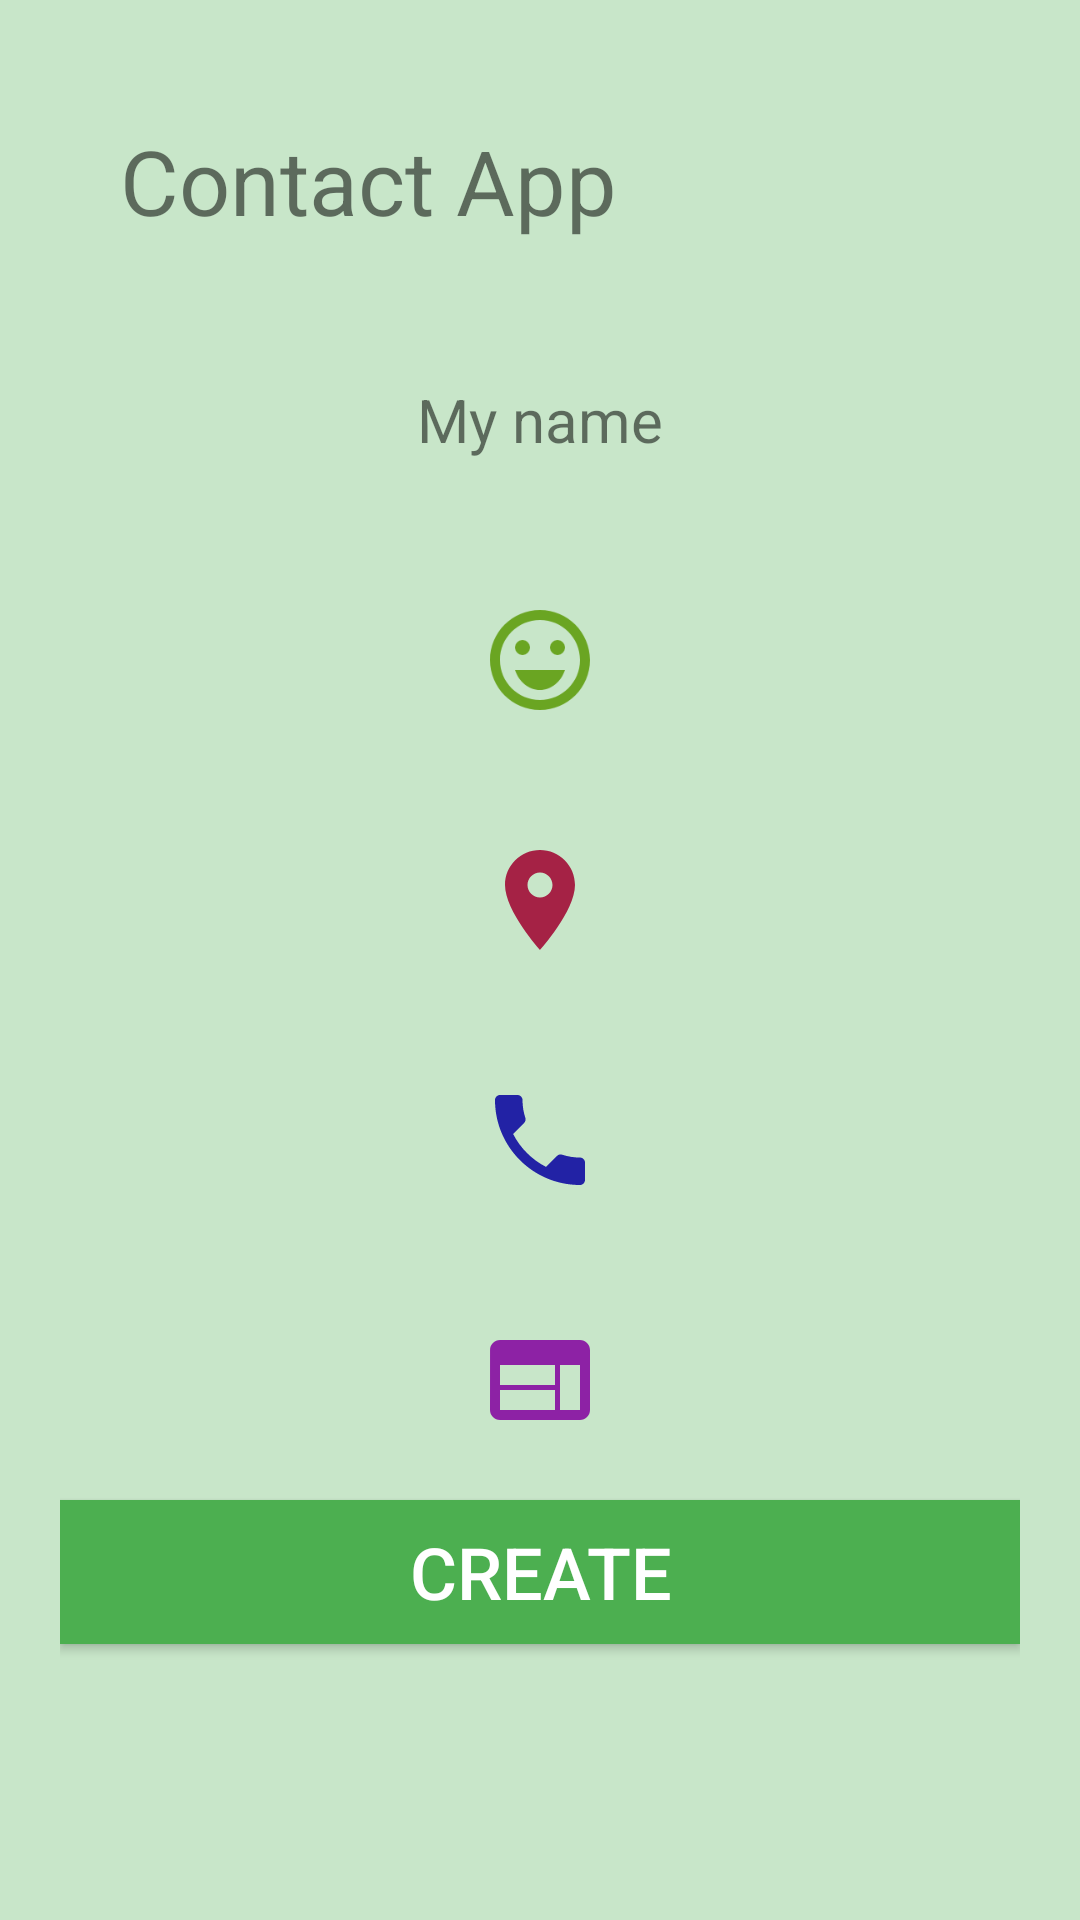

Screen size 1080px x 1920px. Icon name, then its box in pixels as (x1, y1, x2, y2):
Happy face: (490, 610, 590, 710)
Location: (505, 850, 575, 950)
Phone Number: (495, 1095, 585, 1185)
Website: (490, 1340, 590, 1420)
